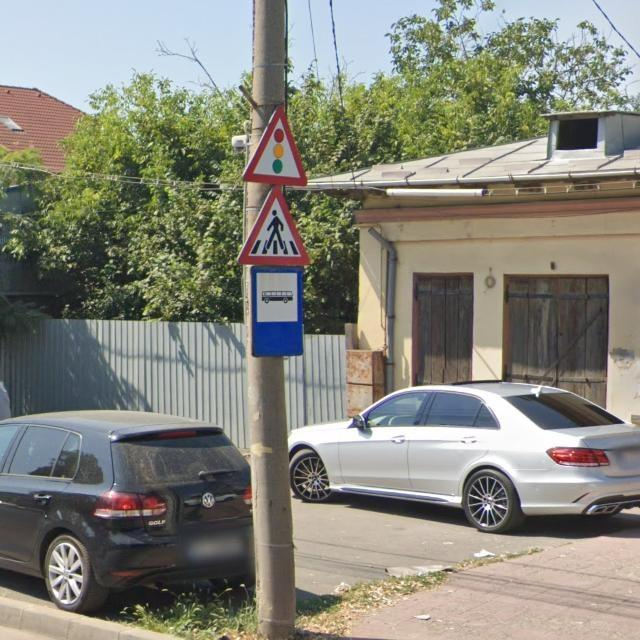warn_crosswalk: (236, 183, 309, 267)
